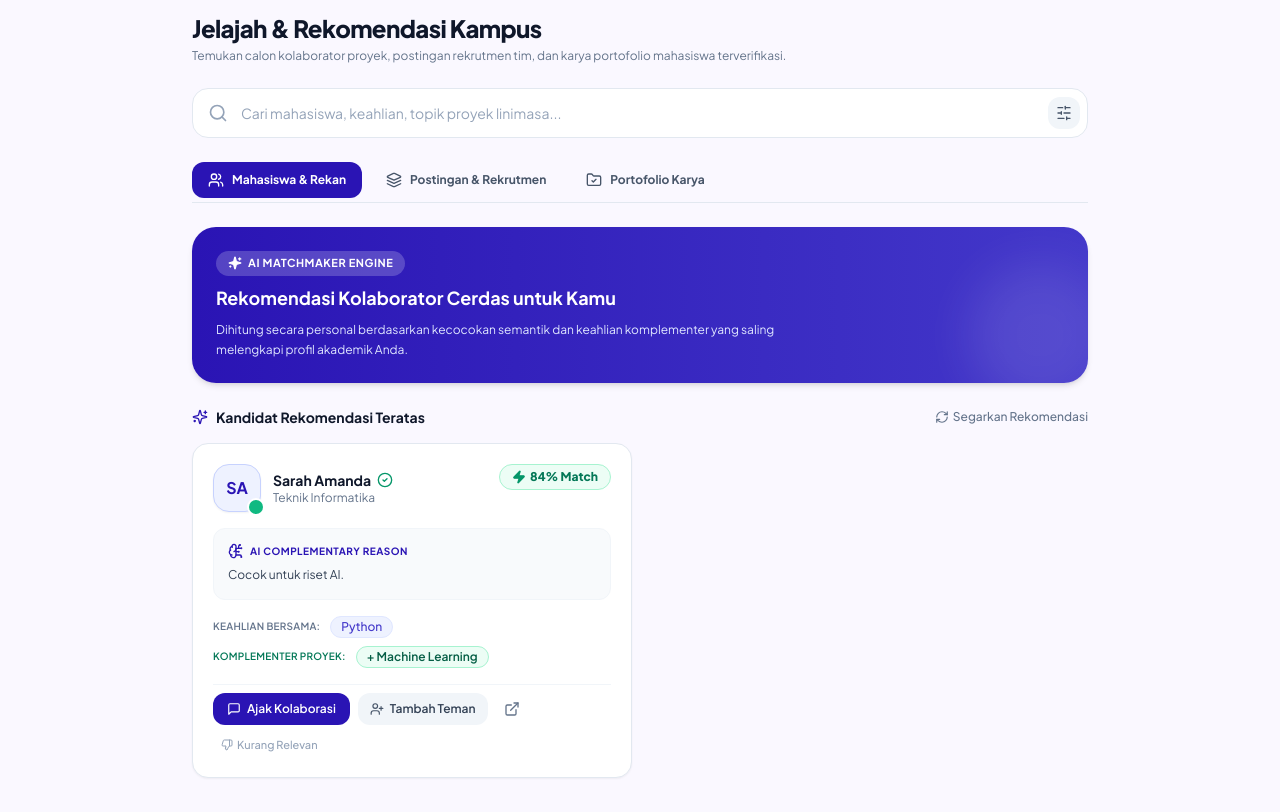
Test: M10 Explore & Search Frontend Tests (/explore) › allows submitting negative feedback on recommendation card
This screenshot has width=1280, height=812.
Expected: the link "Sarah Amanda" is shown, [273,470,371,490]
What coordinates should you click on to do the following:
click the button titled "Beri tahu AI jika rekomendasi ini kurang relevan"
I would click on:
 (269, 745)
Its box is [213,733,326,757].
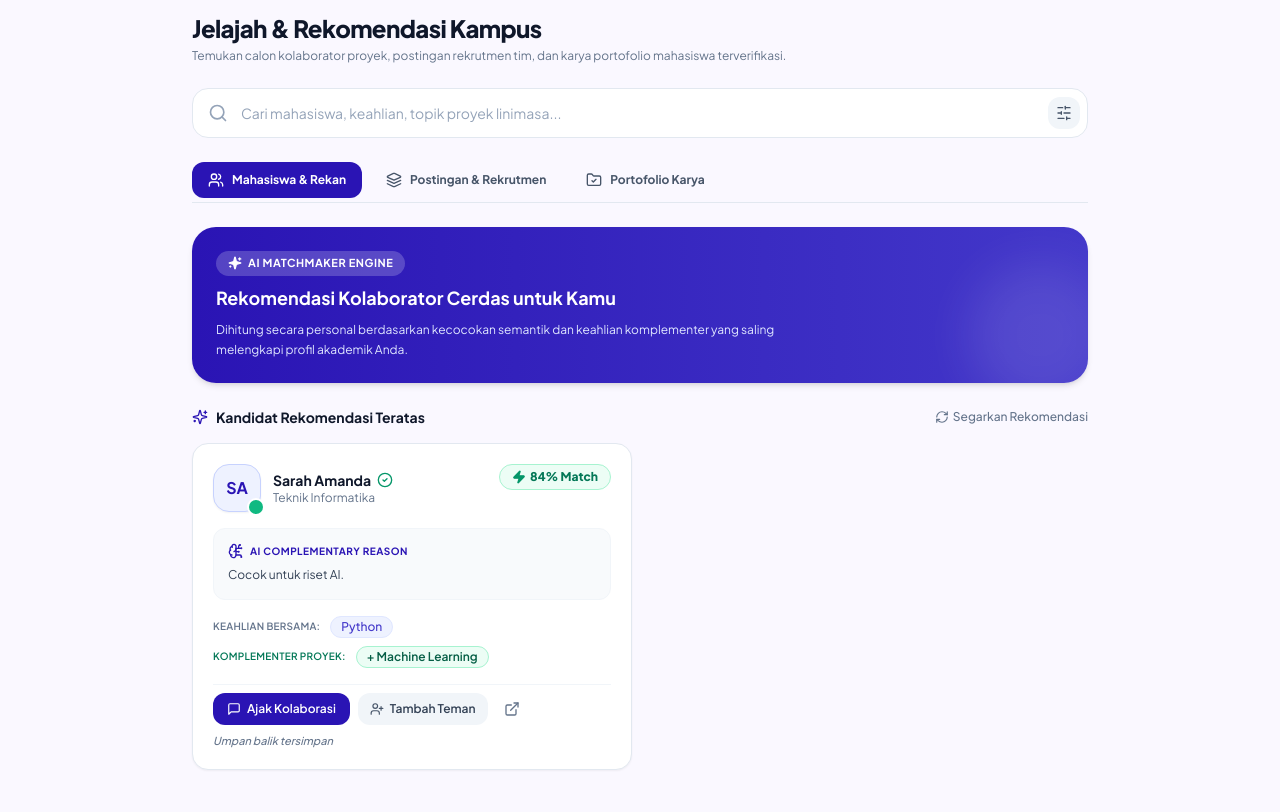
Expected: the text "Umpan balik tersimpan" is shown, [213,733,333,749]
